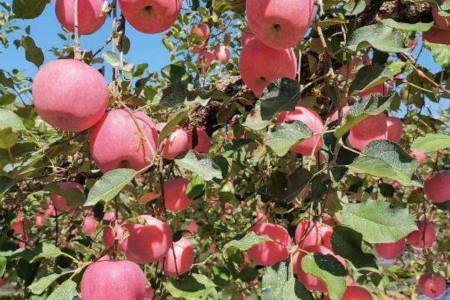apple: (31, 58, 110, 134), (95, 111, 160, 172), (238, 43, 303, 99), (245, 1, 312, 49), (77, 257, 152, 299), (119, 213, 171, 261), (117, 1, 180, 35)
